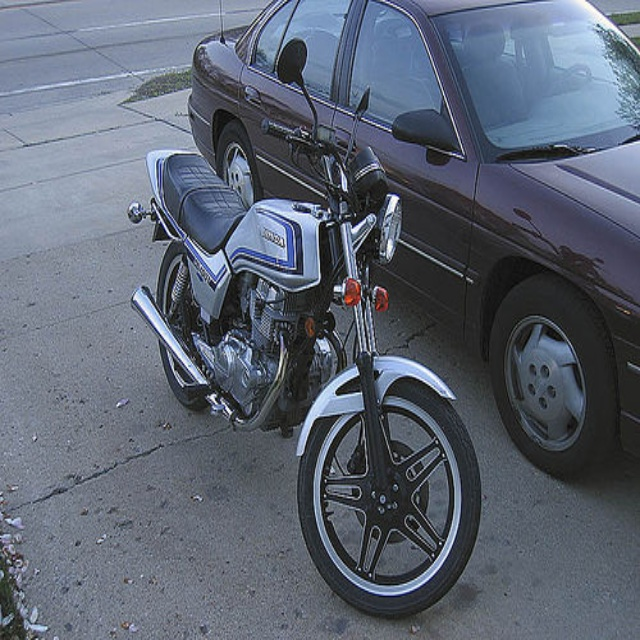Car: (188, 2, 640, 483)
Motorcycle: (127, 36, 481, 621)
